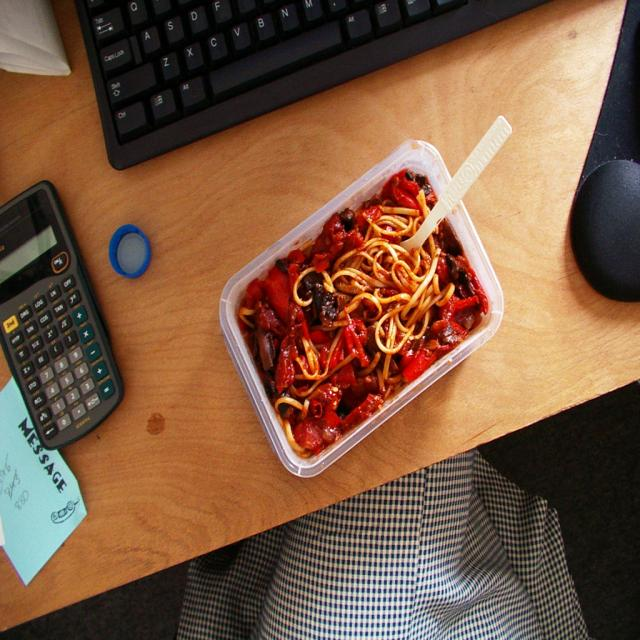Calculator: (0, 177, 127, 452)
